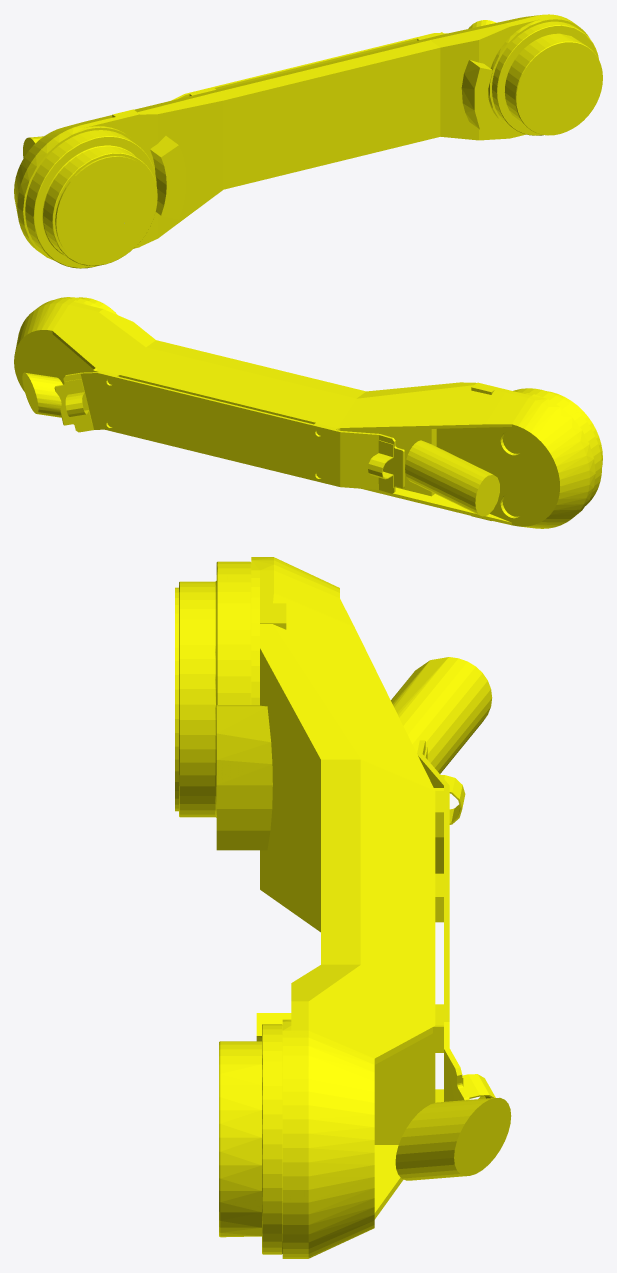
3 renders of one model, top to bottom at view 1: azimuth 30°, elevation 25°; view 2: azimuth 150°, elevation 25°; view 3: azimuth 270°, elevation 25°, orthographic. The views are drawn at different scales.
Parts seen in each view (by area): view 1: node; view 2: node; view 3: node.
Part boxes in pixels (left/top/right/bottom): node: left=14, top=14, right=602, bottom=268; node: left=14, top=297, right=602, bottom=528; node: left=175, top=557, right=511, bottom=1258.
Size of the model in its own units: 751 by 164 by 234.
